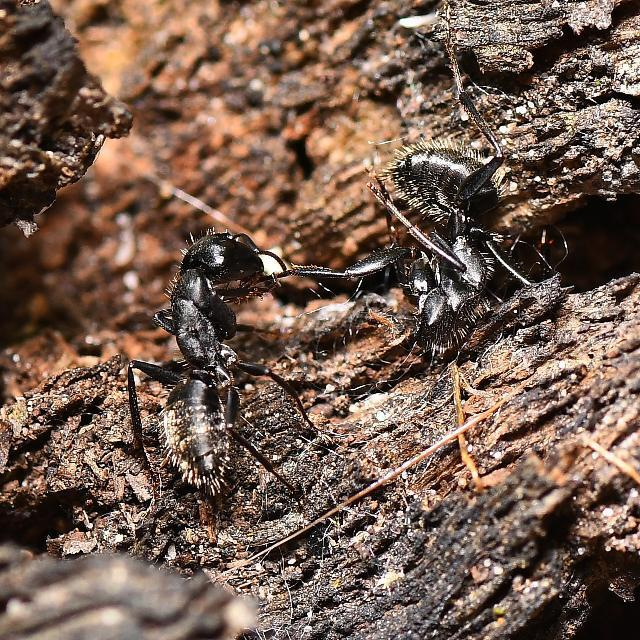Camponotus: (26, 176, 322, 524), (316, 112, 576, 404)
